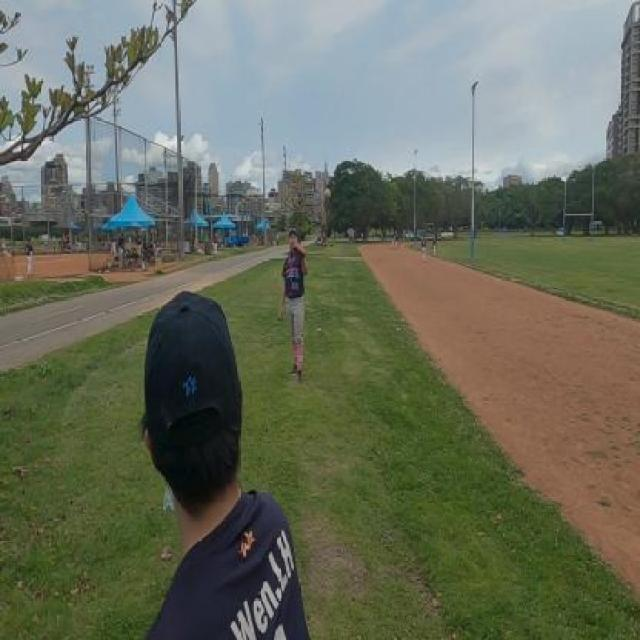baseball: (324, 188, 330, 200)
